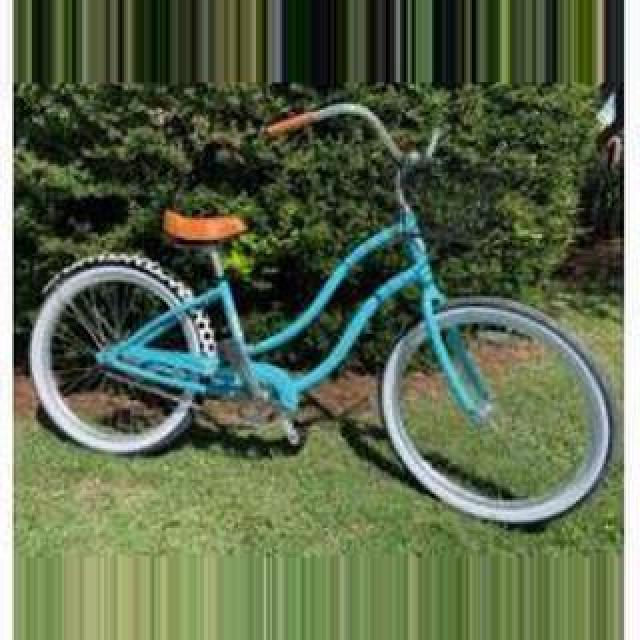Person: (30, 103, 624, 527)
